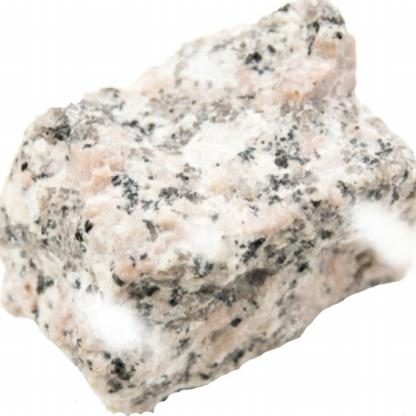Igneous_Granite: (1, 2, 416, 415)
